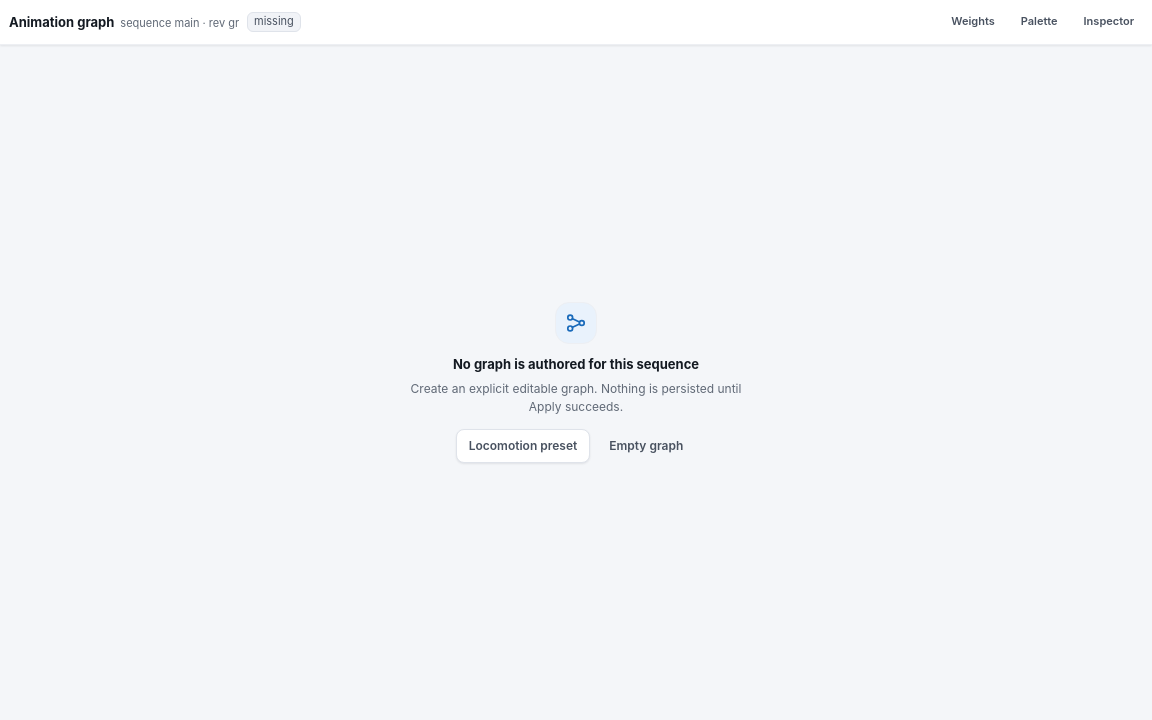
Test: locomotion preset remains local until one explicit atomic Apply
Click the button with test id "animation-graph-locomotion-preset" at (523, 446), box [456,429,590,463]
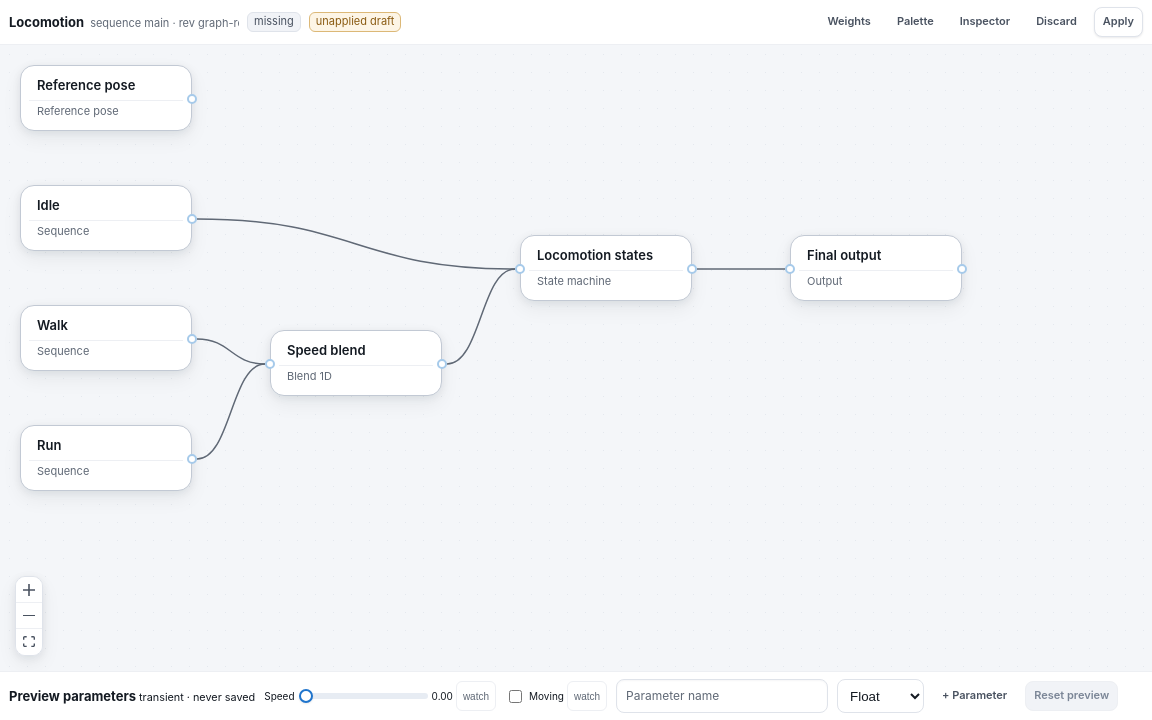
Click the button "Palette" at (915, 22), box [888,7,943,37]
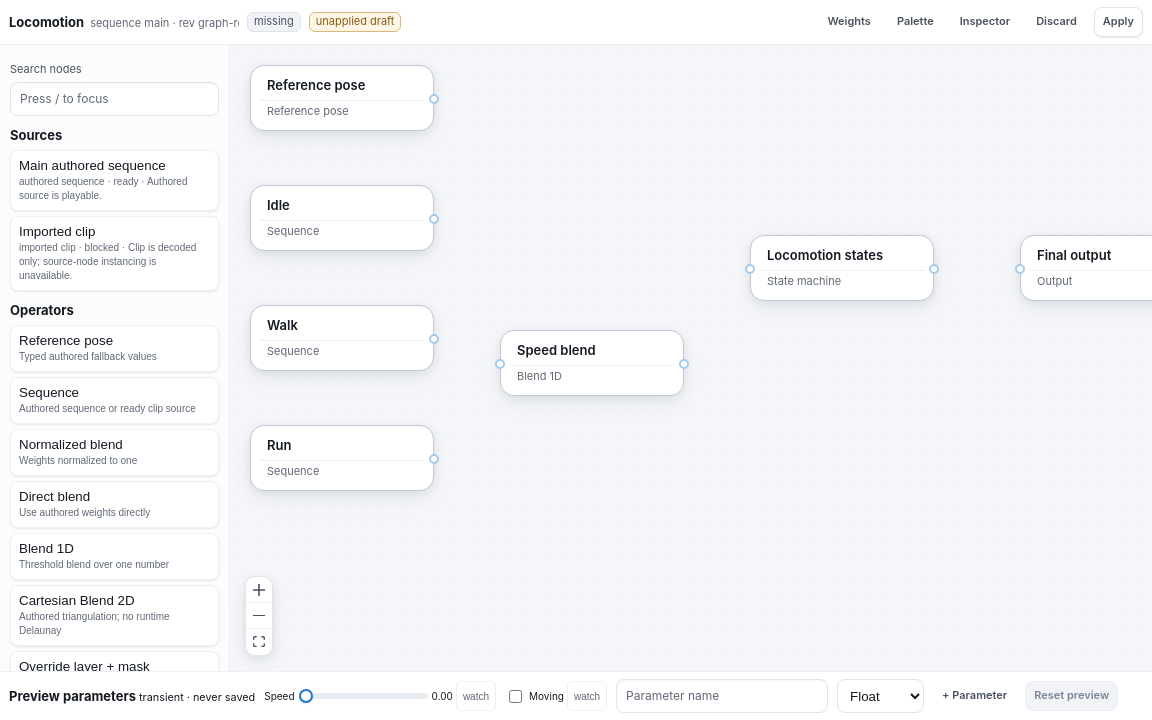
Now the text "unapplied draft" is shown, box [309,12,401,32]
Now the text "Preview parameters" is shown, box [9,688,136,704]
Now the button "Imported clip" is disabled, box [10,216,219,291]
Click the button with test id "animation-graph-apply" at (1118, 22), box [1094,7,1143,37]
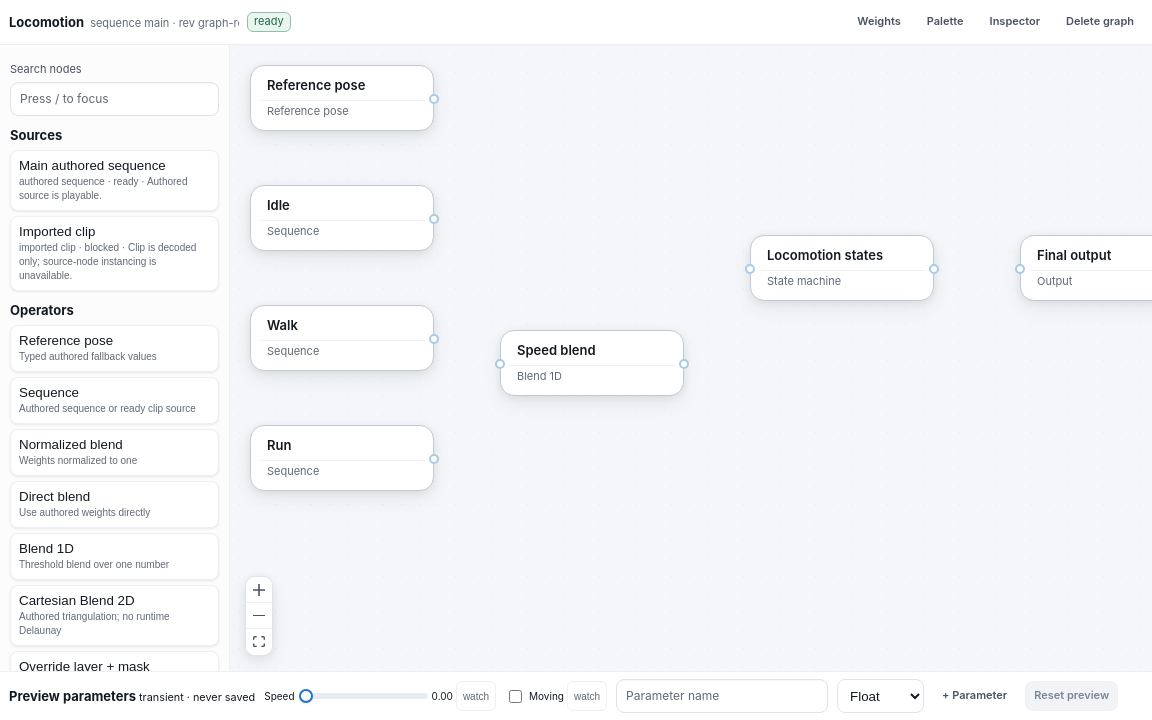
Now the text "unapplied draft" is gone
